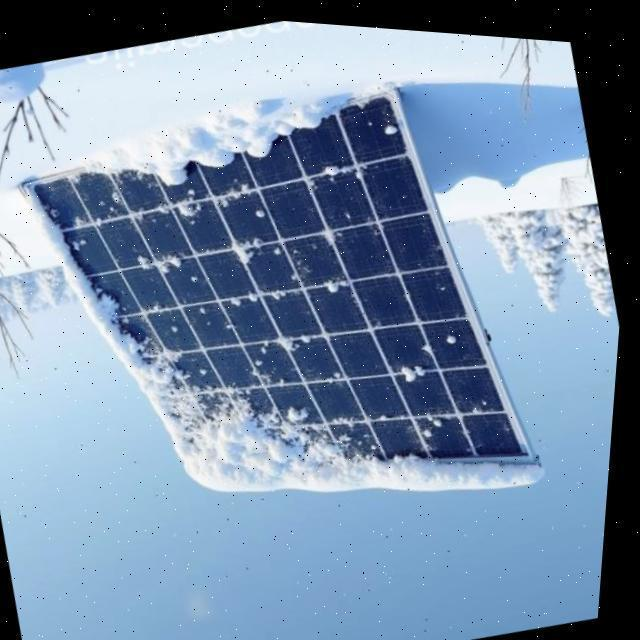Anomaly Solar Panel: (20, 45, 546, 615)
Snow: (0, 178, 555, 620), (86, 84, 354, 208), (225, 227, 271, 264), (140, 250, 188, 271), (276, 330, 318, 349), (176, 186, 203, 213), (402, 351, 430, 377)
